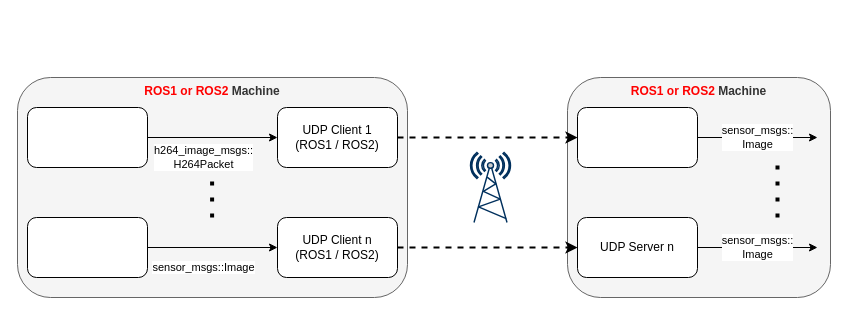
The diagram is 848 pixels wide and 315 high, and some of its shapes have lost their labels. Each missing label, with the centre of its shape:
"UDP Server 1" belongs at (637,137).
"Video Source 1" belongs at (87,137).
"Video Source n" belongs at (87,247).
